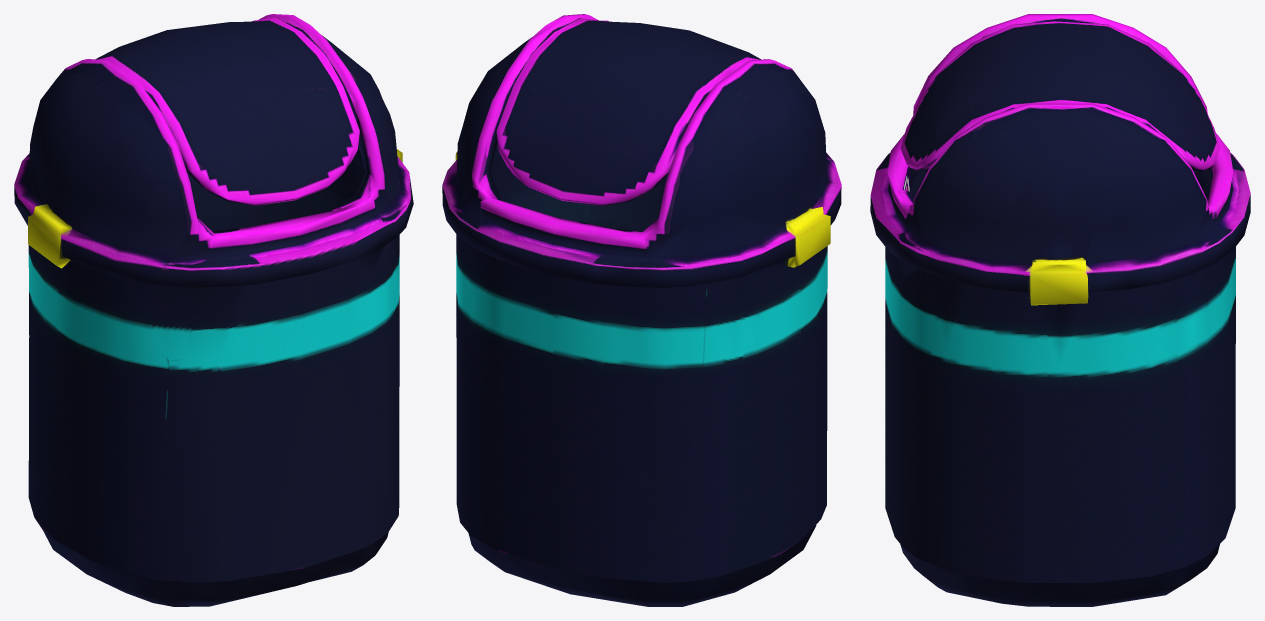
The model's file is tacho-basura.glb.
3 views of the same model, side by side, from view 1: azimuth 30°, elevation 25°; view 2: azimuth 150°, elevation 25°; view 3: azimuth 270°, elevation 25° (orthographic).
Bounding box in the file's own units: 1.45 × 2 × 1.39.
Materials: 1 (1 with a texture image).
